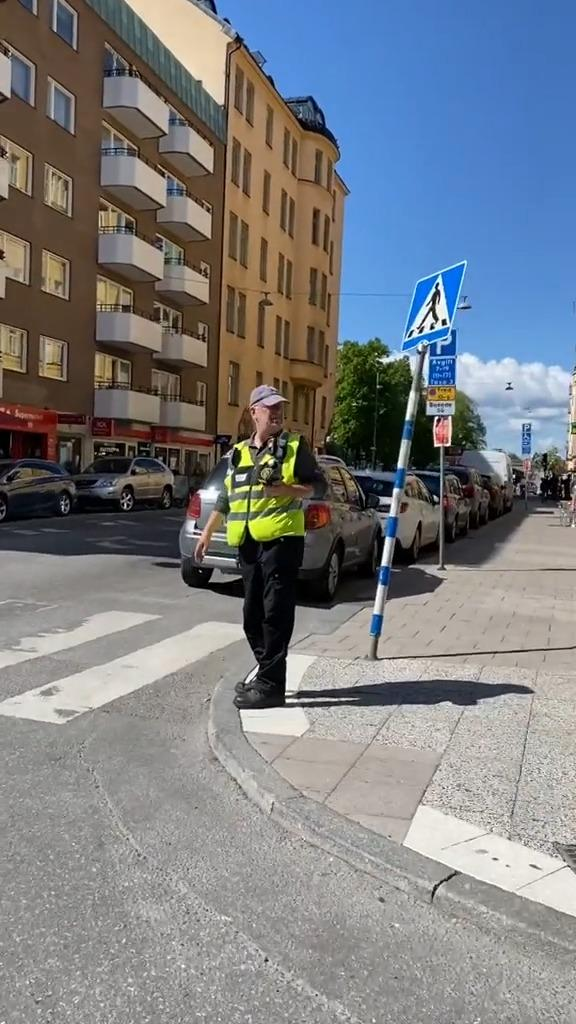parking-attendant: (195, 385, 326, 708)
